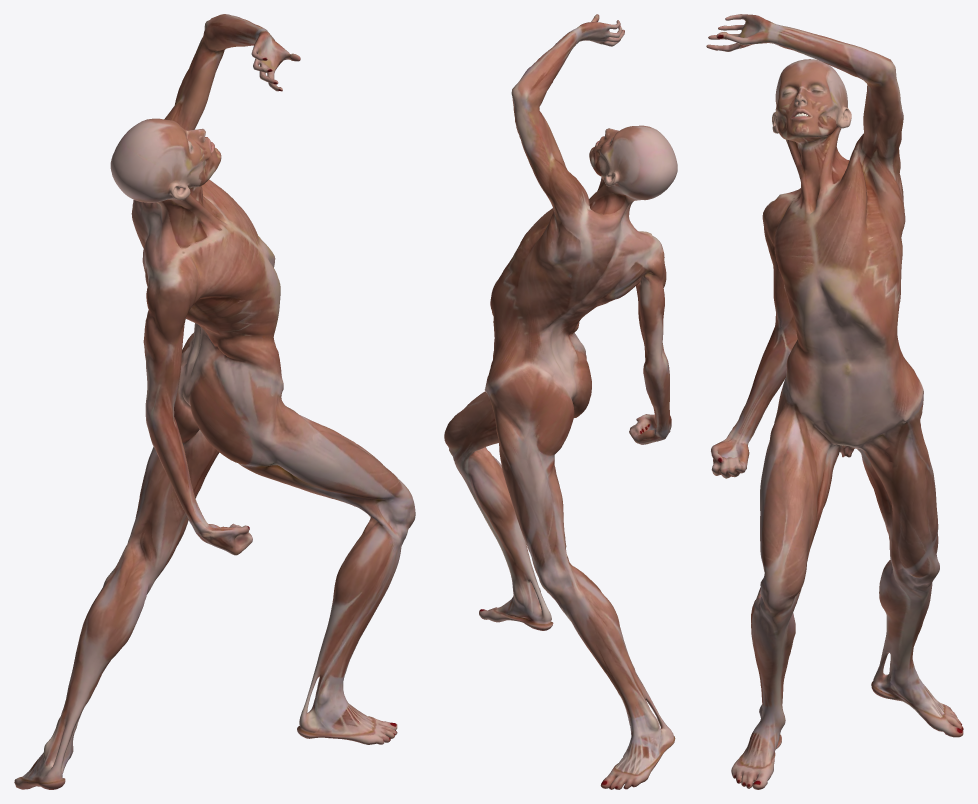
The model's file is 人物其它_20260324191352_opt.glb.
3 renders of one model, left to right at view 1: azimuth 30°, elevation 25°; view 2: azimuth 150°, elevation 25°; view 3: azimuth 270°, elevation 25°, orthographic. The views are drawn at different scales.
Parts seen in each view (by area): view 1: Body; view 2: Body; view 3: Body.
Boxes of the visible parts, bbox=[...] form: Body: bbox=[14, 14, 415, 789]; Body: bbox=[444, 14, 677, 789]; Body: bbox=[706, 14, 963, 789].
Bounding box in the file's own units: 0.1679 × 0.4 × 0.1202.
2 materials, 2 textured.
